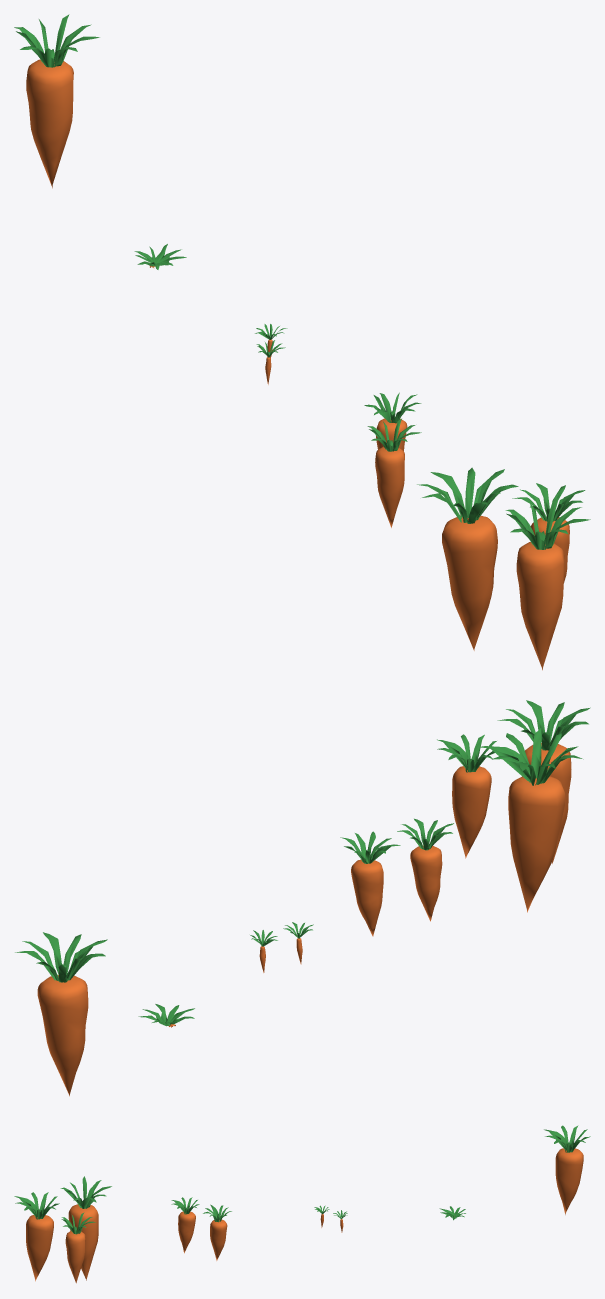
File: Carrot.fbx
3 renders of one model, top to bottom at view 1: azimuth 30°, elevation 25°; view 2: azimuth 150°, elevation 25°; view 3: azimuth 270°, elevation 25°, orthographic. The views are drawn at different scales.
Visible parts, largest first — view 1: Stage 4, Carrot, Stage 3; view 2: Stage 4, Carrot, Stage 3, Stage 2, Stage 1; view 3: Stage 4, Carrot, Stage 3.
Part boxes in pixels (x1=…): Stage 4: x1=417, y1=467, x2=590, y2=670; Carrot: x1=14, y1=14, x2=99, y2=188; Stage 3: x1=364, y1=392, x2=421, y2=527; Stage 4: x1=437, y1=700, x2=590, y2=912; Carrot: x1=15, y1=932, x2=107, y2=1096; Stage 3: x1=340, y1=818, x2=453, y2=936; Stage 2: x1=250, y1=922, x2=313, y2=972; Stage 1: x1=138, y1=1004, x2=194, y2=1027; Stage 4: x1=14, y1=1176, x2=111, y2=1283; Carrot: x1=544, y1=1125, x2=590, y2=1214; Stage 3: x1=171, y1=1197, x2=231, y2=1260.
Size of the model in its own units: 59.08 by 103 by 347.
